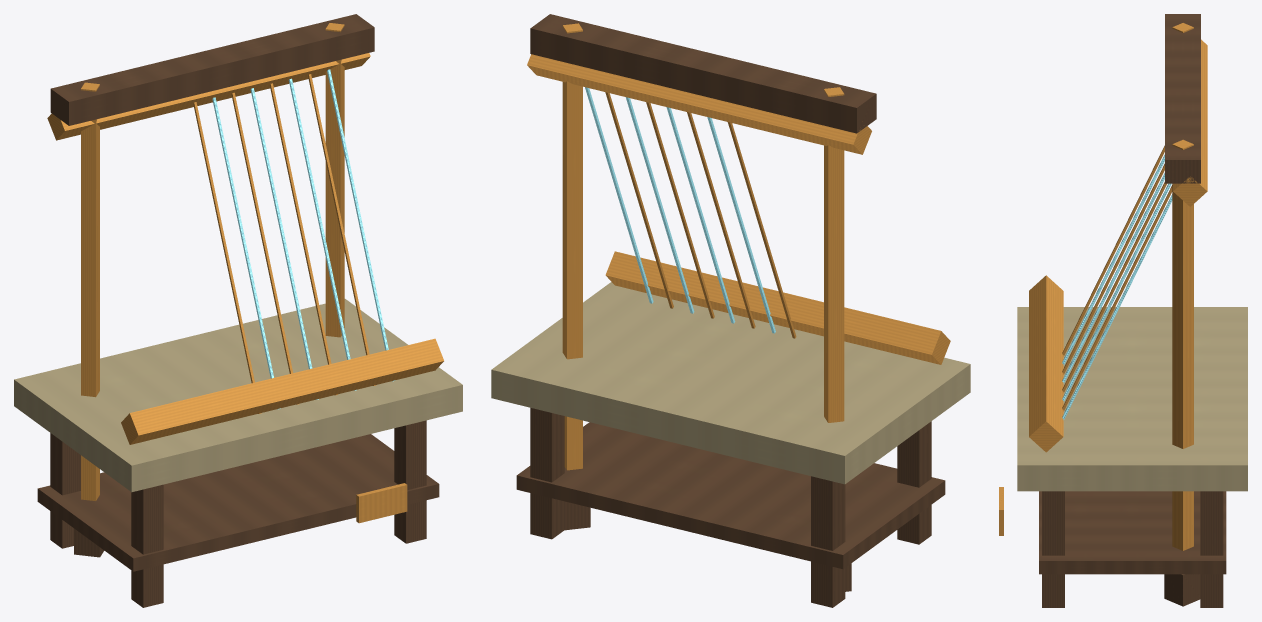
File: atlas100-s015-a01.lod2.glb
3 renders of one model, left to right at view 1: azimuth 30°, elevation 25°; view 2: azimuth 150°, elevation 25°; view 3: azimuth 270°, elevation 25°, orthographic. The views are drawn at different scales.
Visible parts, largest first — view 1: atlas100-s015-a01:part-004, atlas100-s015-a01:part-005, atlas100-s015-a01:part-010, atlas100-s015-a01:part-024, atlas100-s015-a01:part-006, atlas100-s015-a01:part-008, atlas100-s015-a01:part-025, atlas100-s015-a01:part-001, atlas100-s015-a01:part-003, atlas100-s015-a01:part-000, atlas100-s015-a01:part-026, atlas100-s015-a01:part-019 (+7 smaller); view 2: atlas100-s015-a01:part-004, atlas100-s015-a01:part-005, atlas100-s015-a01:part-010, atlas100-s015-a01:part-024, atlas100-s015-a01:part-025, atlas100-s015-a01:part-008, atlas100-s015-a01:part-006, atlas100-s015-a01:part-002, atlas100-s015-a01:part-000, atlas100-s015-a01:part-001, atlas100-s015-a01:part-018, atlas100-s015-a01:part-023 (+7 smaller); view 3: atlas100-s015-a01:part-004, atlas100-s015-a01:part-005, atlas100-s015-a01:part-008, atlas100-s015-a01:part-010, atlas100-s015-a01:part-024, atlas100-s015-a01:part-002, atlas100-s015-a01:part-003, atlas100-s015-a01:part-025, atlas100-s015-a01:part-009, atlas100-s015-a01:part-022, atlas100-s015-a01:part-023, atlas100-s015-a01:part-021 (+5 smaller).
Part boxes in pixels (bbox=[...]): atlas100-s015-a01:part-004: bbox=[14, 299, 462, 492]; atlas100-s015-a01:part-005: bbox=[37, 434, 439, 571]; atlas100-s015-a01:part-010: bbox=[50, 14, 374, 125]; atlas100-s015-a01:part-024: bbox=[121, 338, 443, 444]; atlas100-s015-a01:part-006: bbox=[81, 82, 99, 500]; atlas100-s015-a01:part-008: bbox=[325, 23, 344, 337]; atlas100-s015-a01:part-025: bbox=[47, 53, 370, 140]; atlas100-s015-a01:part-001: bbox=[131, 484, 163, 607]; atlas100-s015-a01:part-003: bbox=[394, 420, 426, 543]; atlas100-s015-a01:part-000: bbox=[50, 433, 80, 548]; atlas100-s015-a01:part-026: bbox=[356, 483, 407, 523]; atlas100-s015-a01:part-019: bbox=[250, 88, 318, 399]; atlas100-s015-a01:part-004: bbox=[491, 282, 970, 484]; atlas100-s015-a01:part-005: bbox=[516, 422, 945, 569]; atlas100-s015-a01:part-010: bbox=[530, 14, 876, 133]; atlas100-s015-a01:part-024: bbox=[605, 251, 950, 364]; atlas100-s015-a01:part-025: bbox=[527, 54, 871, 154]; atlas100-s015-a01:part-008: bbox=[562, 23, 582, 470]; atlas100-s015-a01:part-006: bbox=[824, 87, 844, 422]; atlas100-s015-a01:part-002: bbox=[530, 408, 564, 539]; atlas100-s015-a01:part-000: bbox=[811, 476, 845, 607]; atlas100-s015-a01:part-001: bbox=[897, 421, 931, 544]; atlas100-s015-a01:part-018: bbox=[687, 112, 755, 328]; atlas100-s015-a01:part-023: bbox=[585, 87, 653, 303]; atlas100-s015-a01:part-004: bbox=[1017, 307, 1247, 491]; atlas100-s015-a01:part-005: bbox=[1039, 491, 1226, 574]; atlas100-s015-a01:part-008: bbox=[1172, 139, 1193, 550]; atlas100-s015-a01:part-010: bbox=[1165, 14, 1200, 183]; atlas100-s015-a01:part-024: bbox=[1029, 275, 1063, 452]; atlas100-s015-a01:part-002: bbox=[1200, 491, 1223, 607]; atlas100-s015-a01:part-003: bbox=[1042, 491, 1064, 607]; atlas100-s015-a01:part-025: bbox=[1173, 39, 1207, 206]; atlas100-s015-a01:part-009: bbox=[1164, 574, 1200, 606]; atlas100-s015-a01:part-022: bbox=[1062, 185, 1172, 411]; atlas100-s015-a01:part-023: bbox=[1062, 194, 1172, 420]; atlas100-s015-a01:part-021: bbox=[1062, 183, 1171, 401].
Bounding box in the file's own units: 2.6 × 3.48 × 1.73.
Materials: 4 (4 with a texture image).
